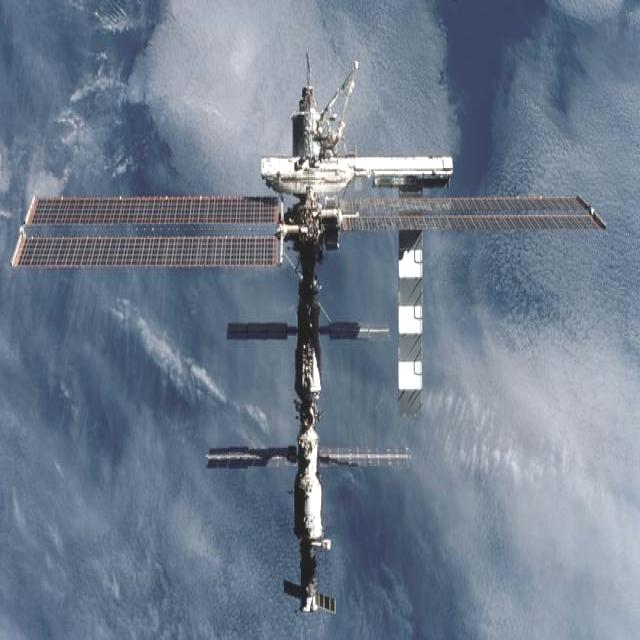satellite: (11, 62, 603, 612)
